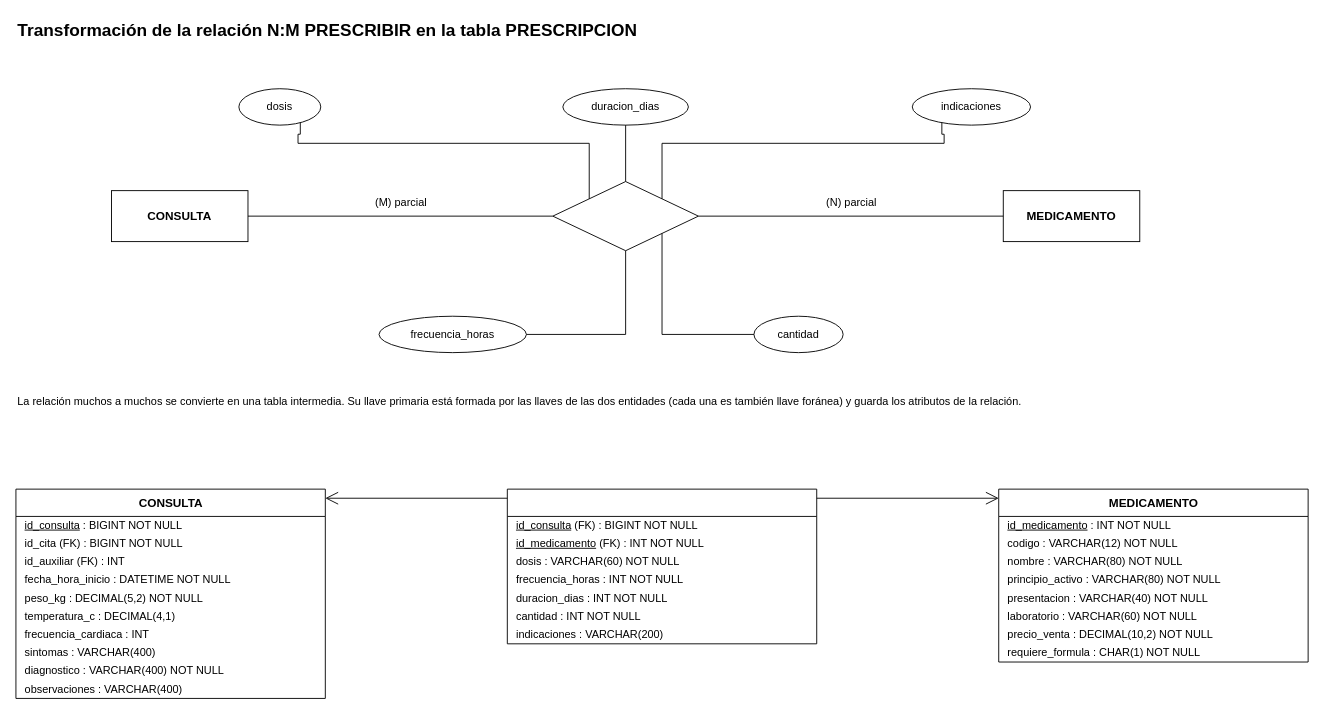
Some shapes in this 1324 by 714 pixel diagram are drawn without their labels. Here are the shapes that lost their labels. From the top down, the box of each, then its label:
(552, 181, 698, 251): PRESCRIBIR
(506, 488, 817, 644): PRESCRIPCION
